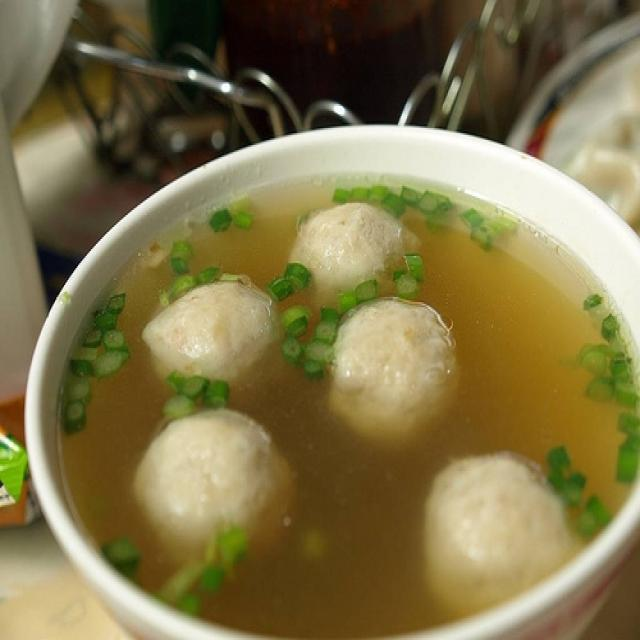熟制海鲜: (111, 215, 602, 584)
